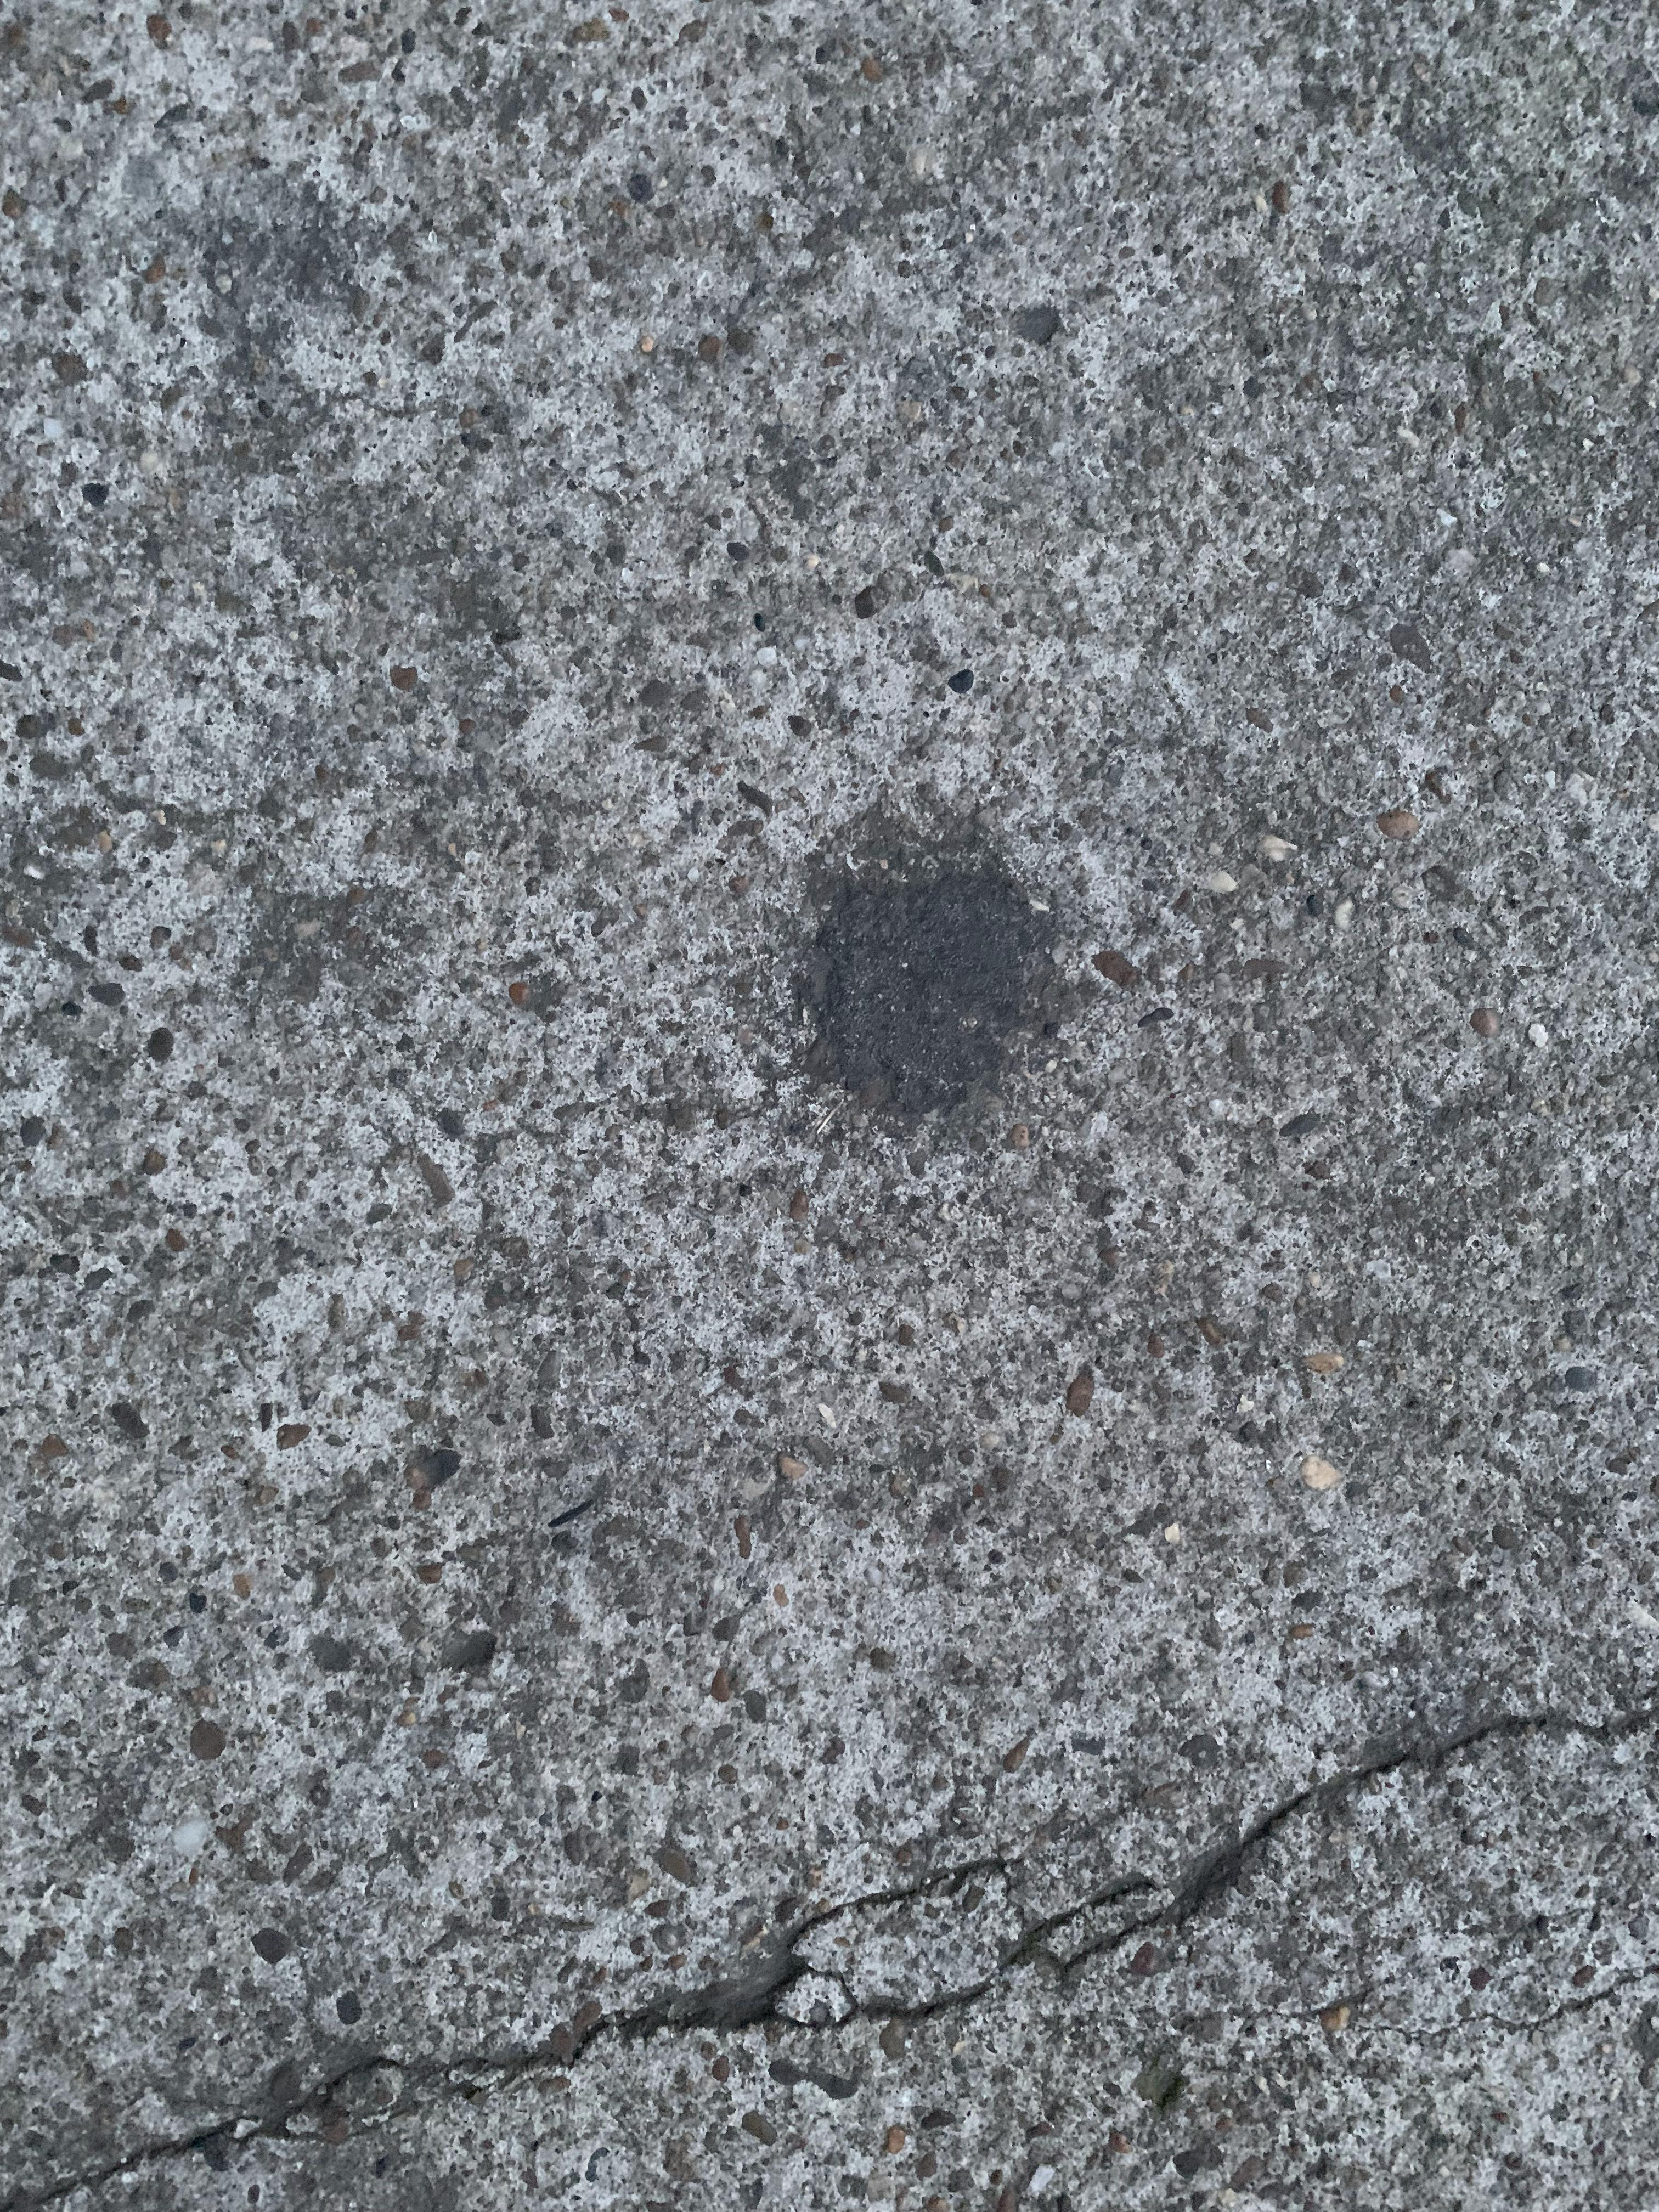grey spot: (782, 829, 1072, 1125)
